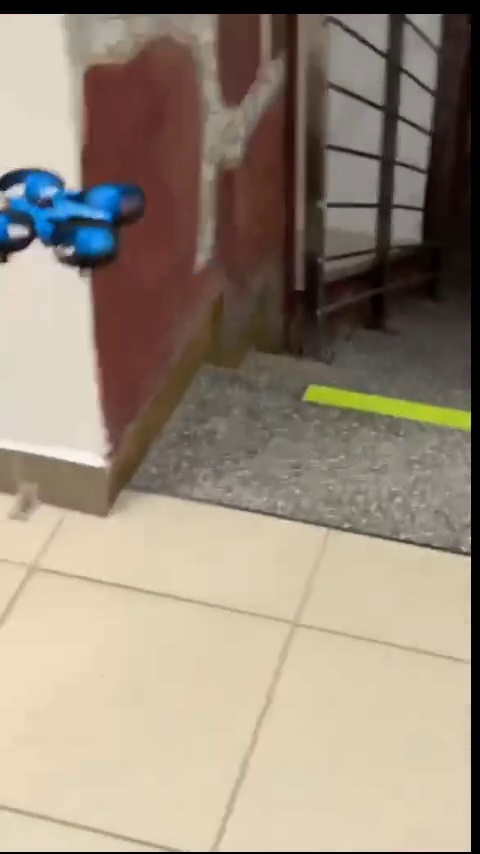drone: (0, 166, 158, 288)
